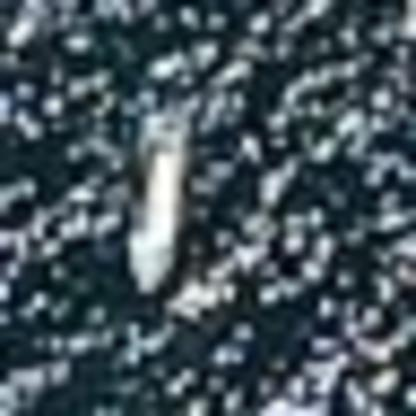ship: (113, 108, 195, 302)
